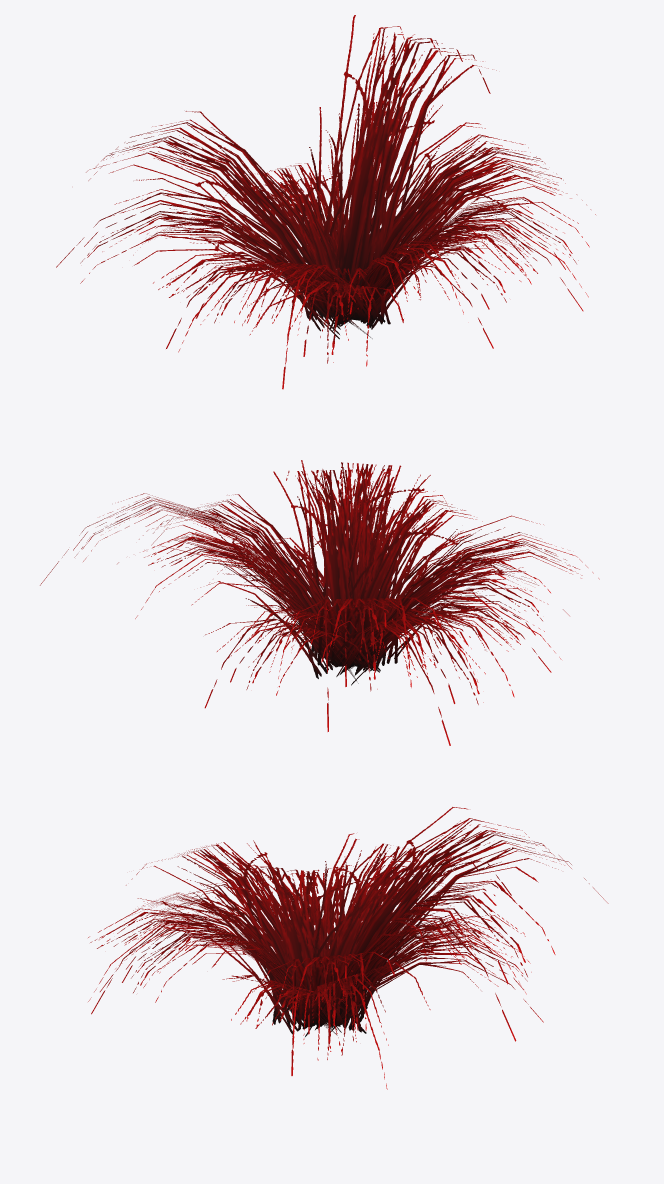
Rendered from bush_beach_dunegrass_a.glb.
The picture shows the model from 3 angles, top to bottom: view 1: azimuth 30°, elevation 25°; view 2: azimuth 150°, elevation 25°; view 3: azimuth 270°, elevation 25°; orthographic projection. The views are drawn at different scales.
Visible parts, largest first — view 1: bush_beach_dunegrass_a; view 2: bush_beach_dunegrass_a; view 3: bush_beach_dunegrass_a.
Boxes of the visible parts, bbox=[...] form: bush_beach_dunegrass_a: bbox=[56, 15, 595, 389]; bush_beach_dunegrass_a: bbox=[40, 460, 599, 745]; bush_beach_dunegrass_a: bbox=[88, 807, 608, 1089].
Size of the model in its own units: 2.18 by 0.863 by 2.19.
Materials: 1 (1 with a texture image).
